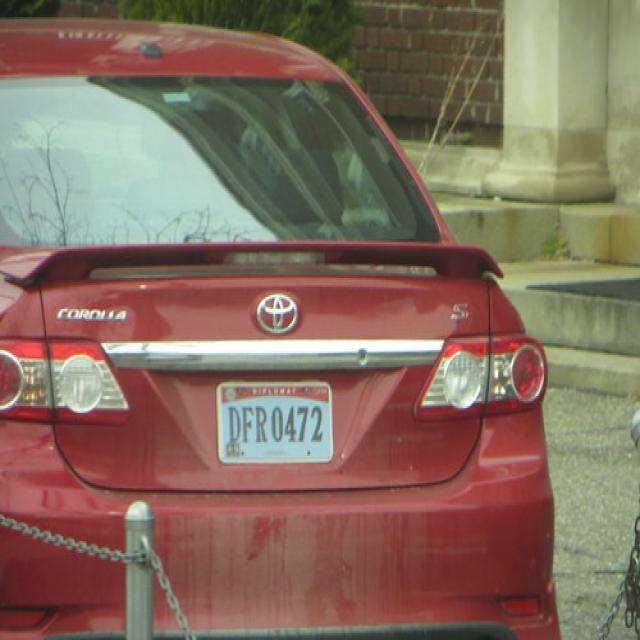license: (215, 382, 339, 468)
